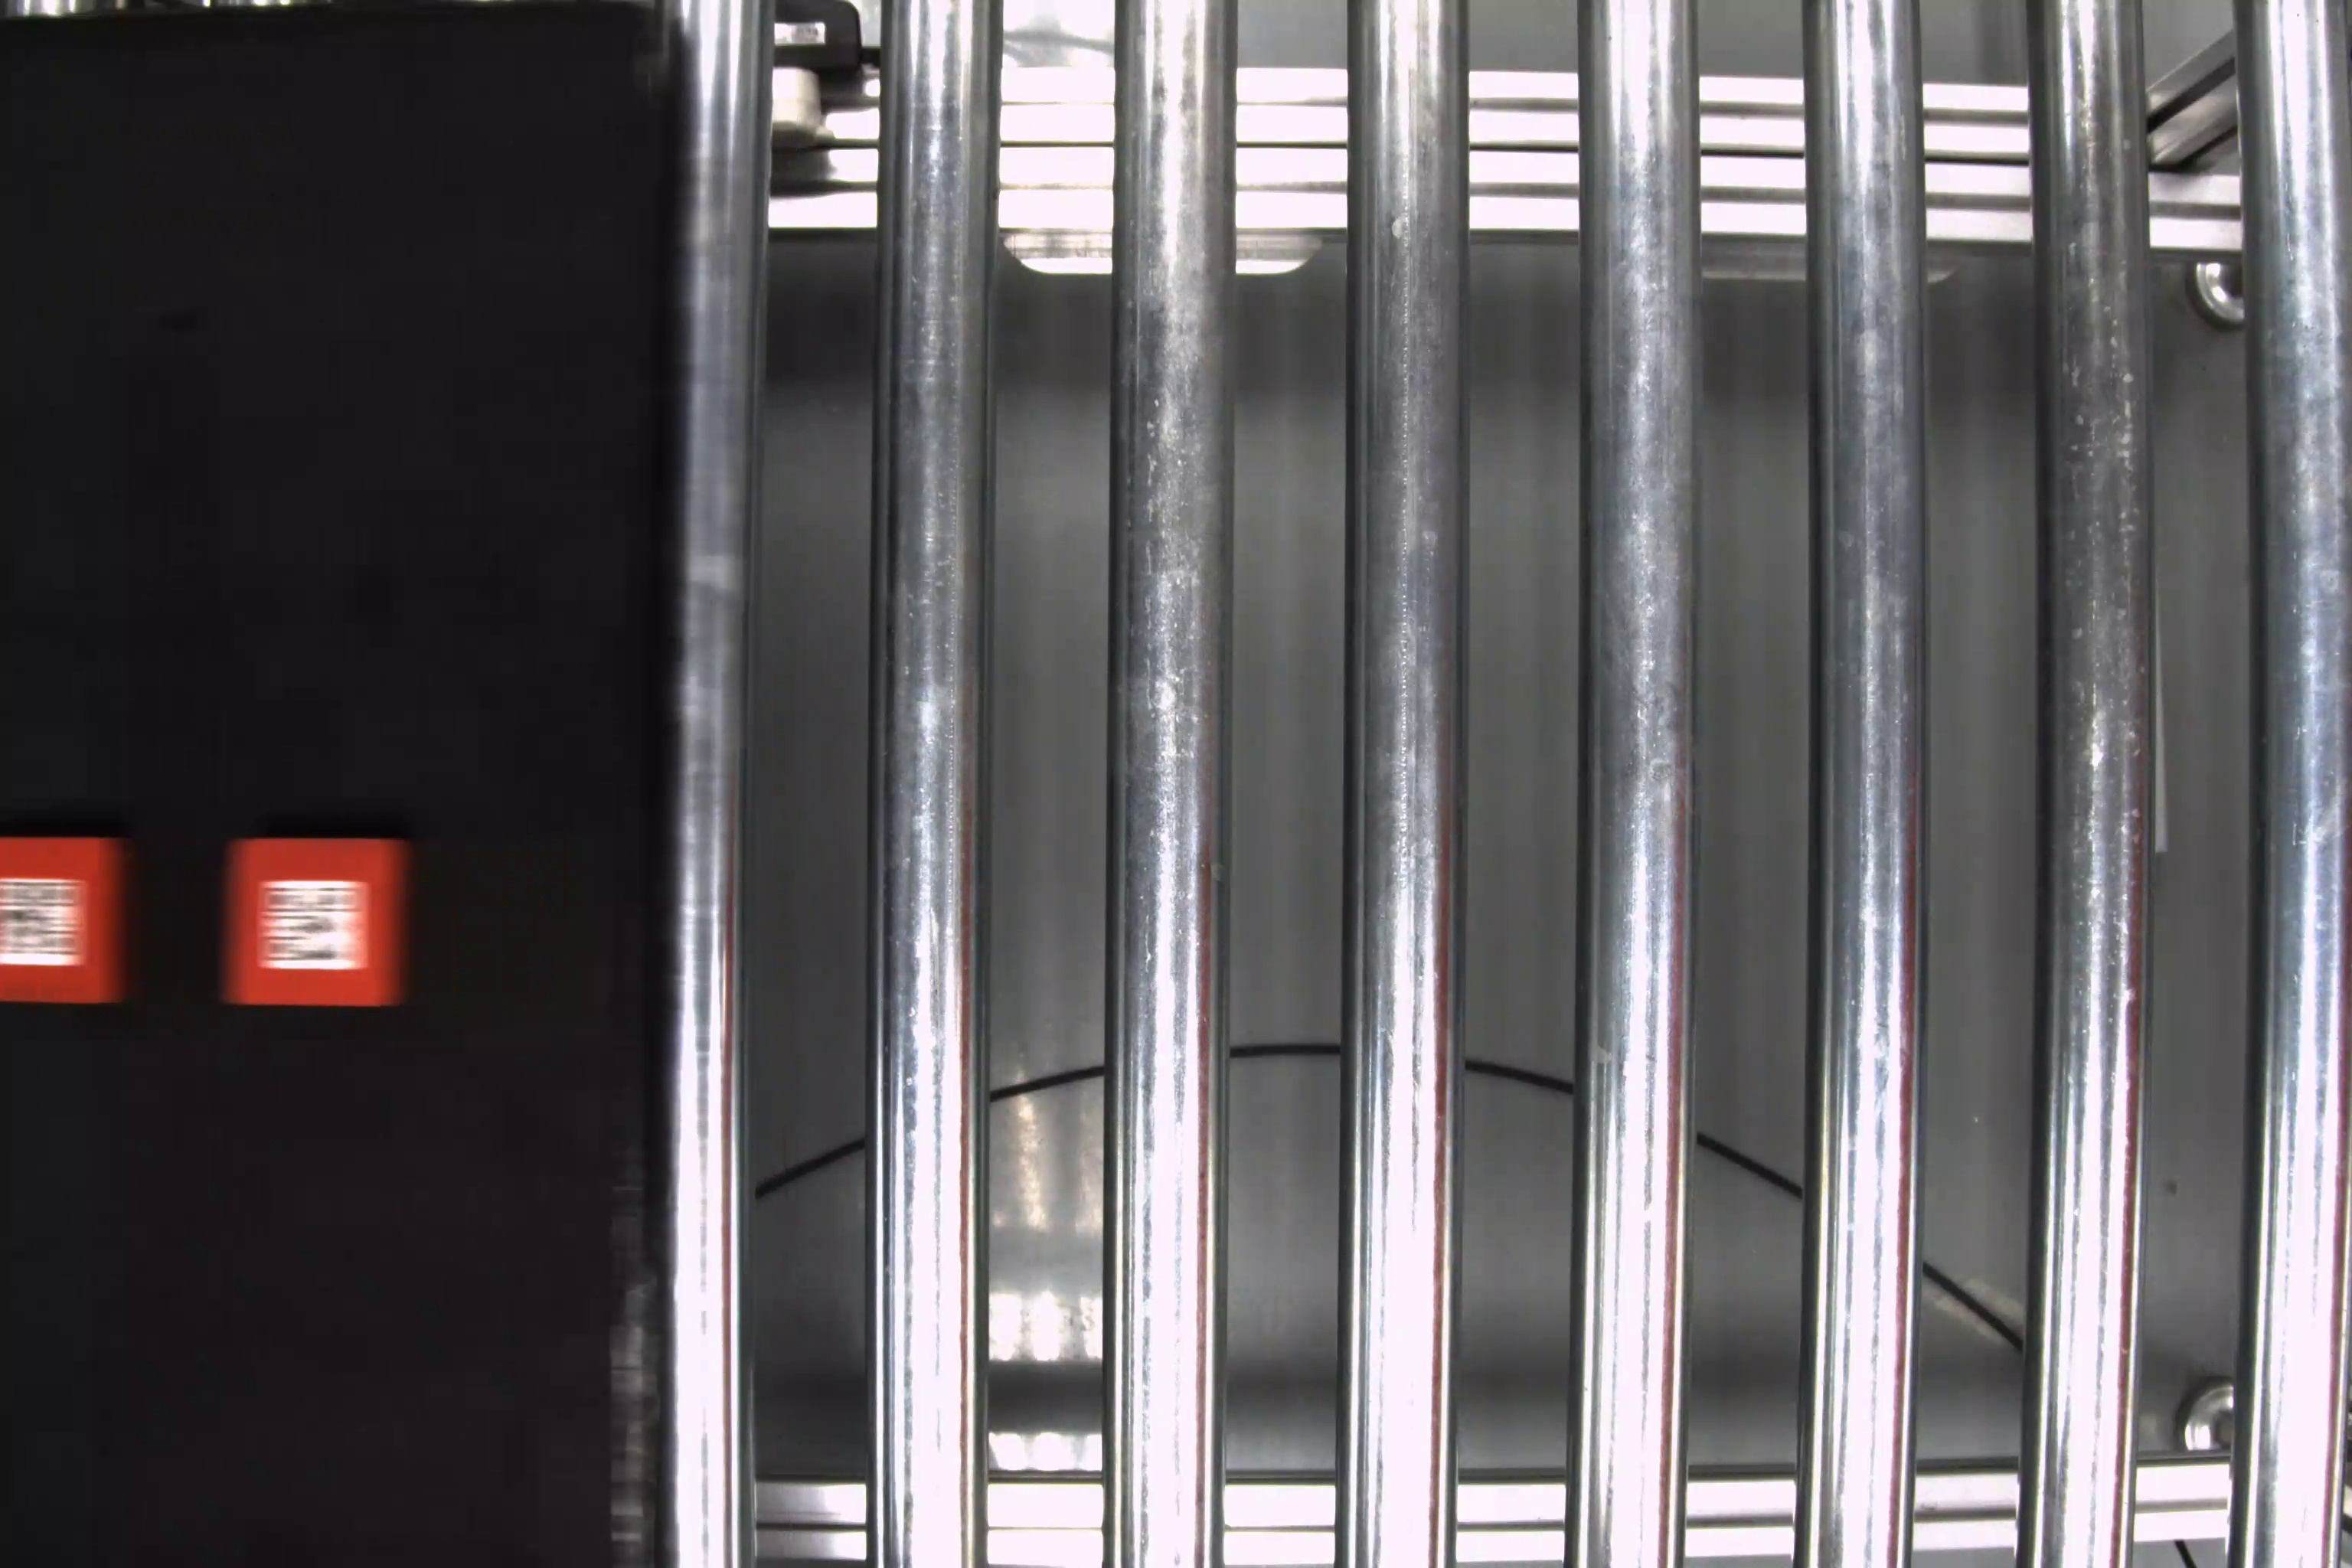wood: (219, 831, 422, 1017), (2, 831, 150, 1008)
